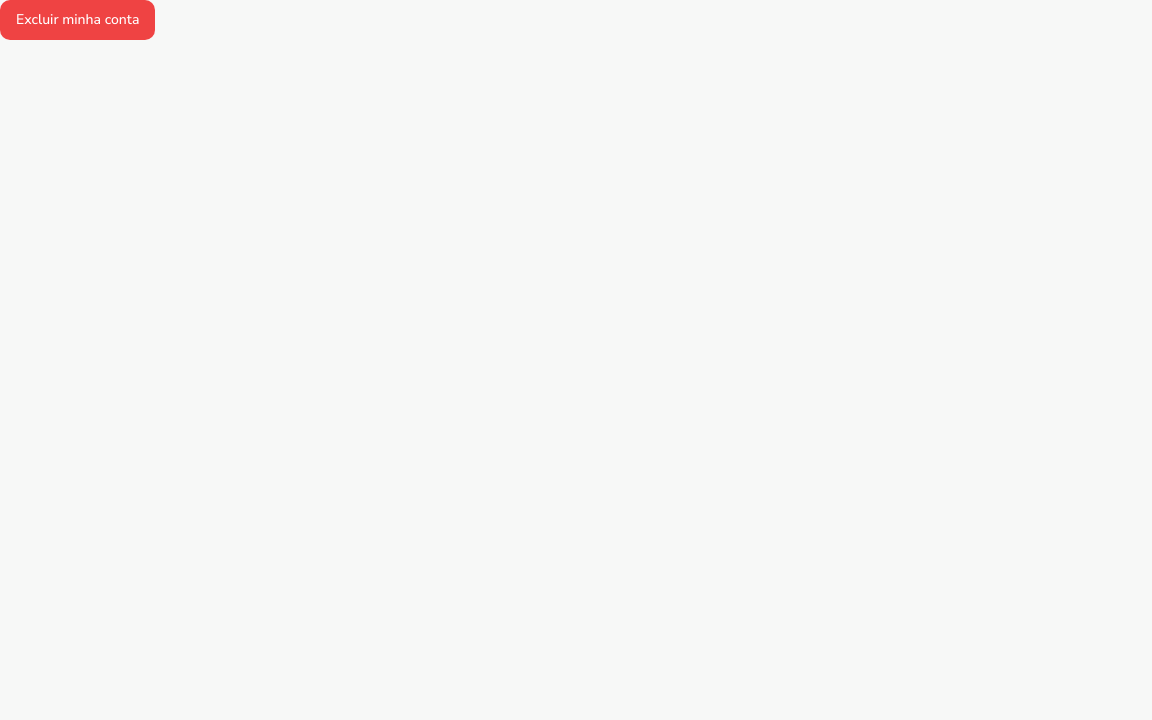
it: DeleteAccountDialog › botão de confirmação fica disabled sem senha + frase
The width and height of the screenshot is (1152, 720).
Click the button "Excluir minha conta". click: point(78, 20)
box: [0, 0, 155, 40]
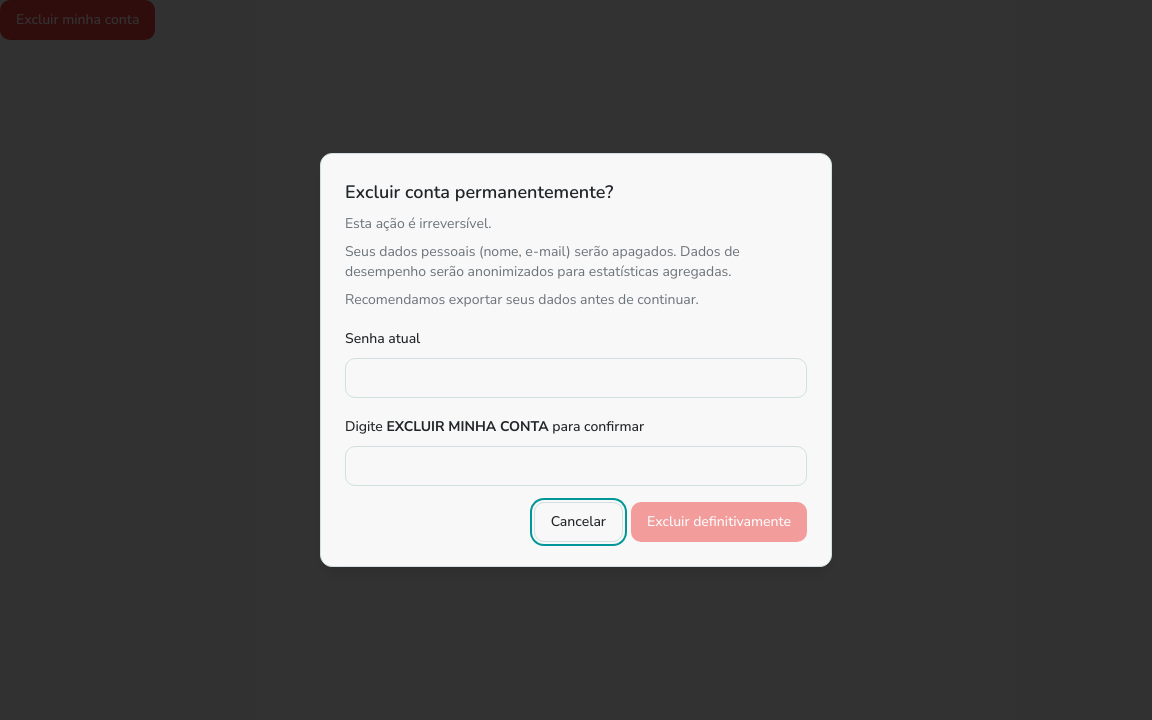
Check: the password field labelled "Senha atual" is shown, box [345, 358, 807, 398]
Check: the button "Excluir definitivamente" is disabled, box [631, 502, 807, 542]
